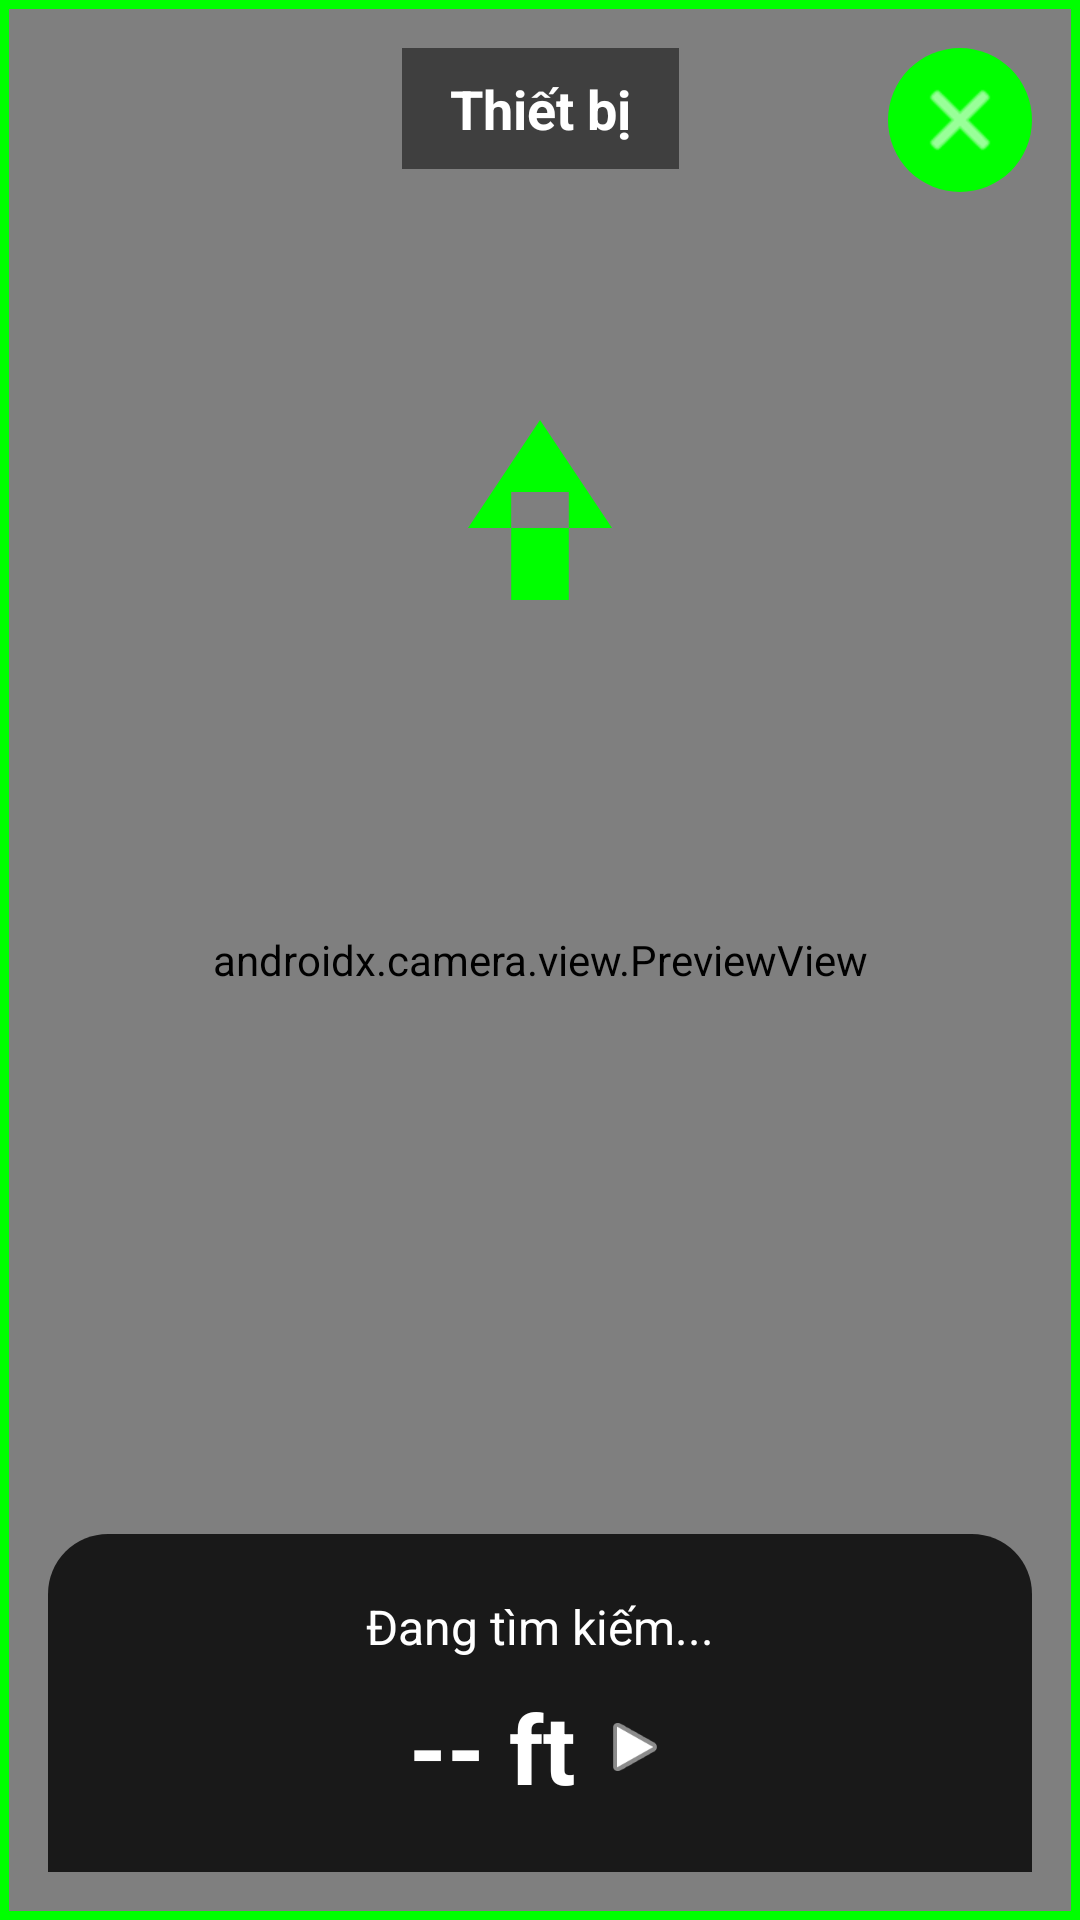

Point at icon controls on the screen. Image size 1080px×1920px, points as [x,y].
ar arrow: [540,510]
play: [635,1747]
Đóng: [960,120]
